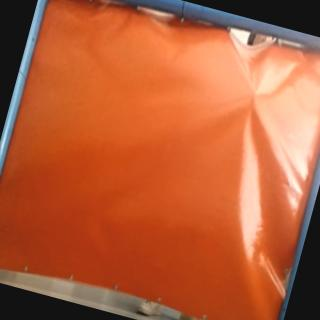Hit-hRxx: (242, 82, 268, 109)
